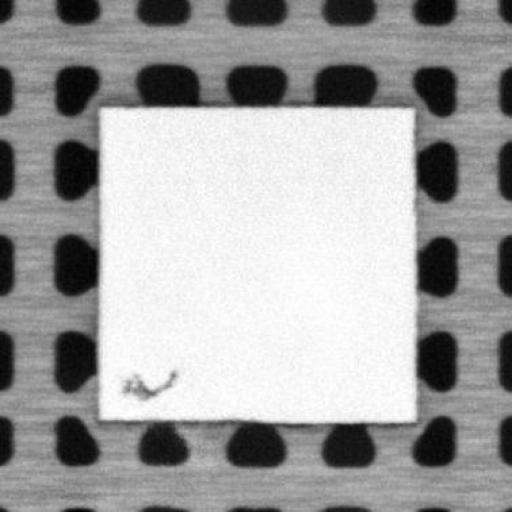DIE_INK: (115, 366, 179, 399)
